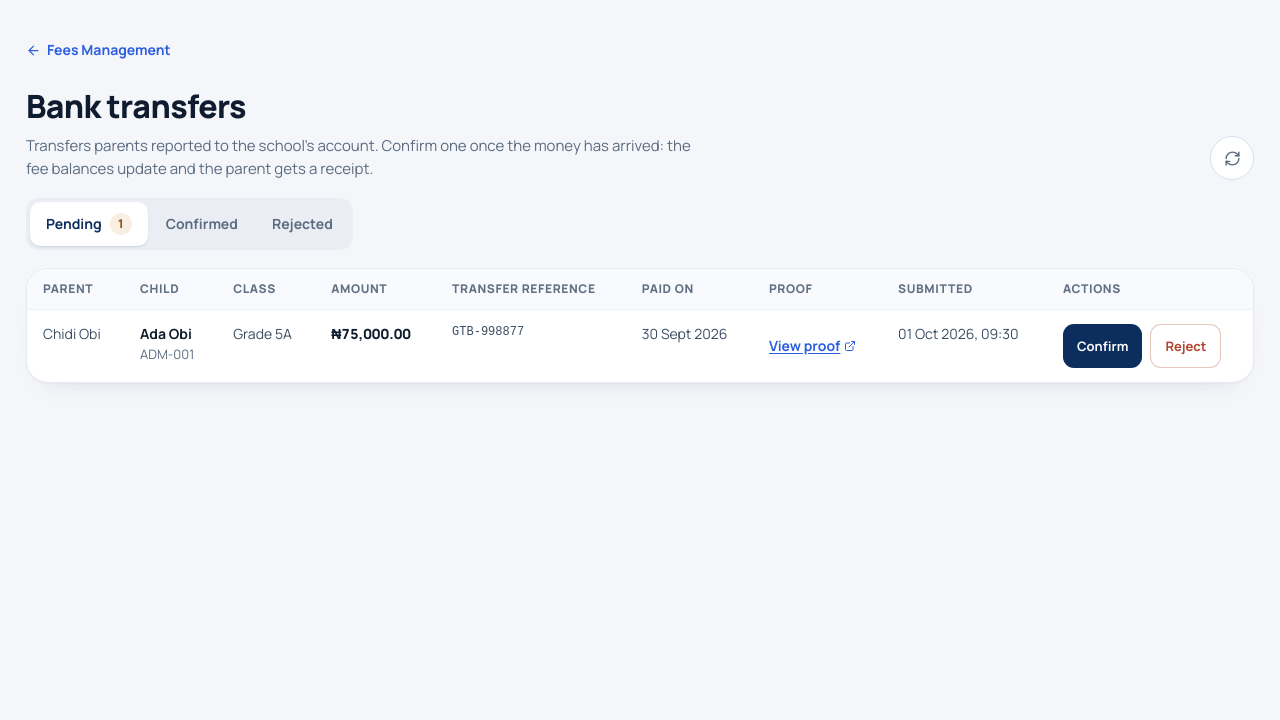
Test: confirming a transfer › previews the allocation, then confirms and reports the receipt
Step 1. Click the button with aria-label "Confirm transfer from Chidi Obi for Ada Obi" → coordinates (1103, 346), box left=1063, top=324, right=1142, bottom=368
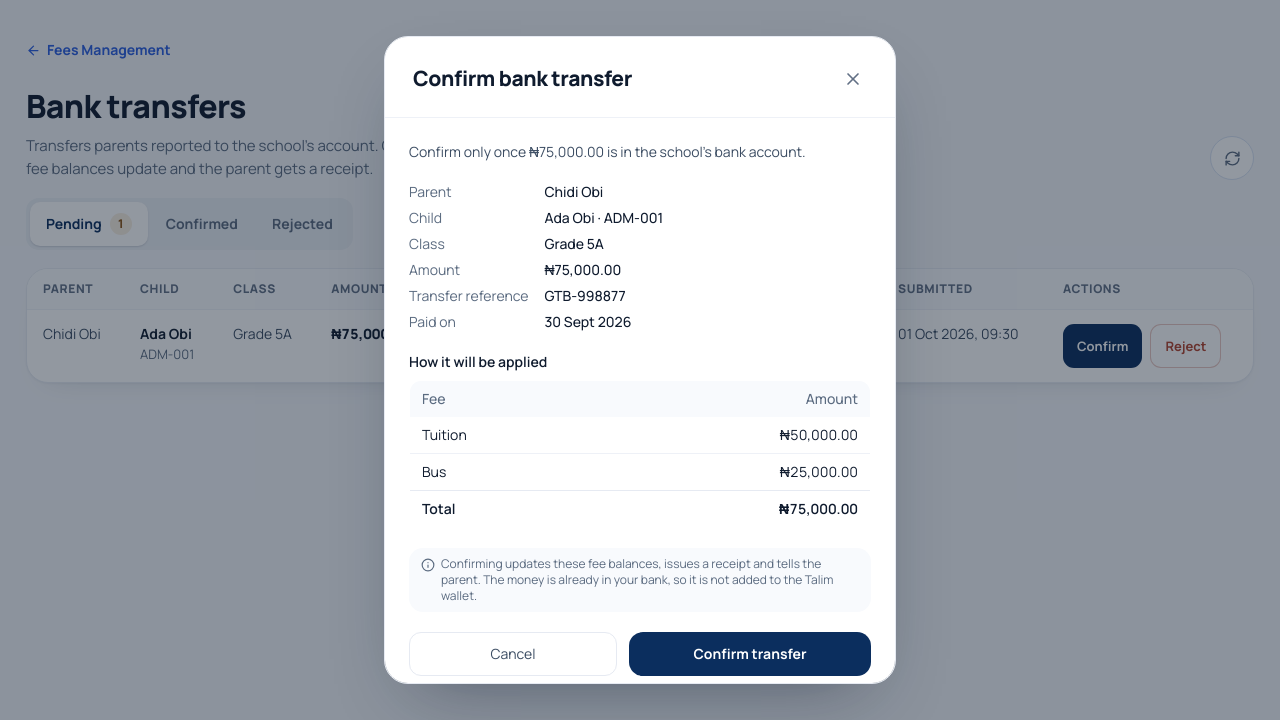
Check: the text "Tuition" is shown, box left=410, top=417, right=594, bottom=454
Check: the text "₦50,000.00" is shown, box left=594, top=417, right=870, bottom=454
Check: the text "Bus" is shown, box left=410, top=454, right=594, bottom=490
Step 2. Click the button "Confirm transfer" → coordinates (750, 654), box left=629, top=632, right=871, bottom=676
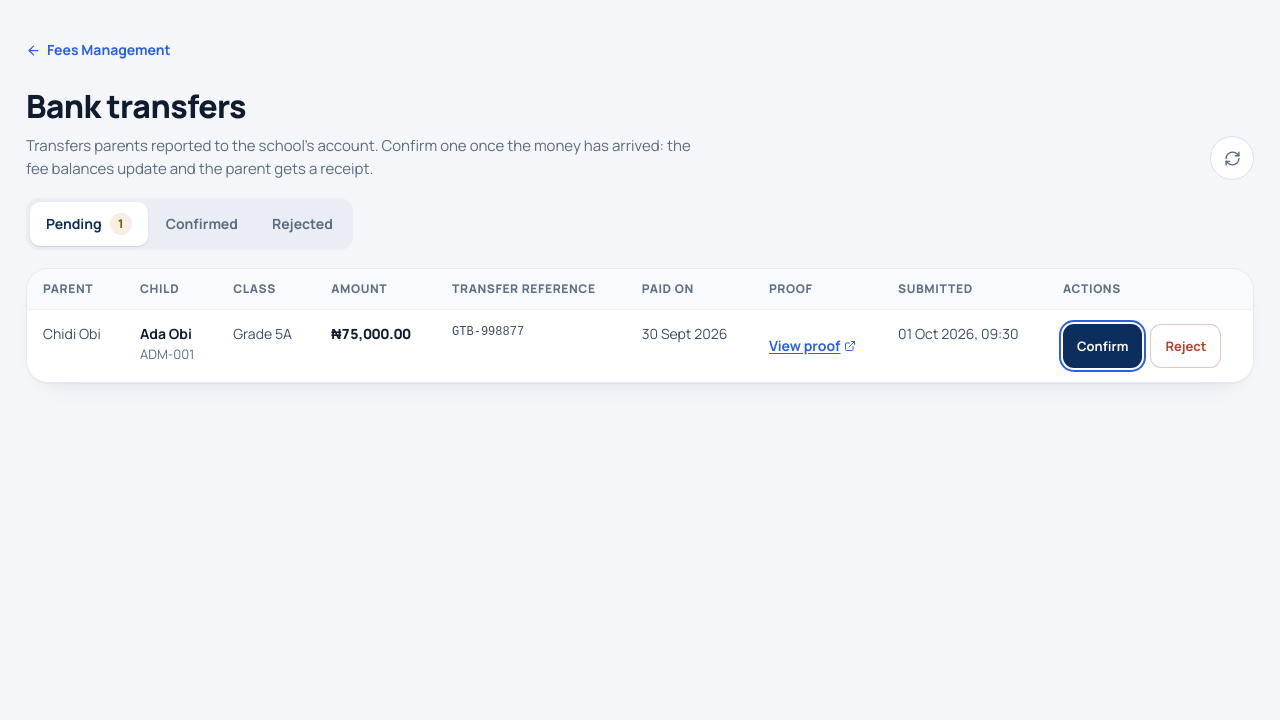
Check: the dialog is gone
